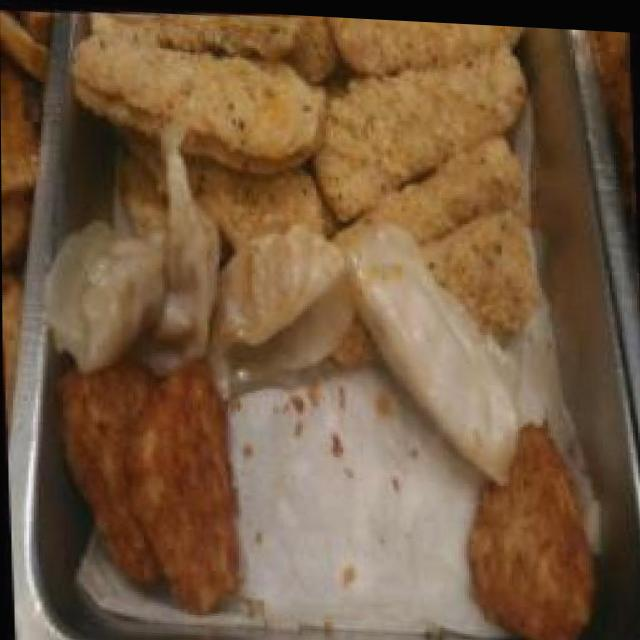fried_dumplings: (54, 207, 518, 419)
triangle_hash_brown: (52, 350, 237, 617), (454, 403, 604, 640)
